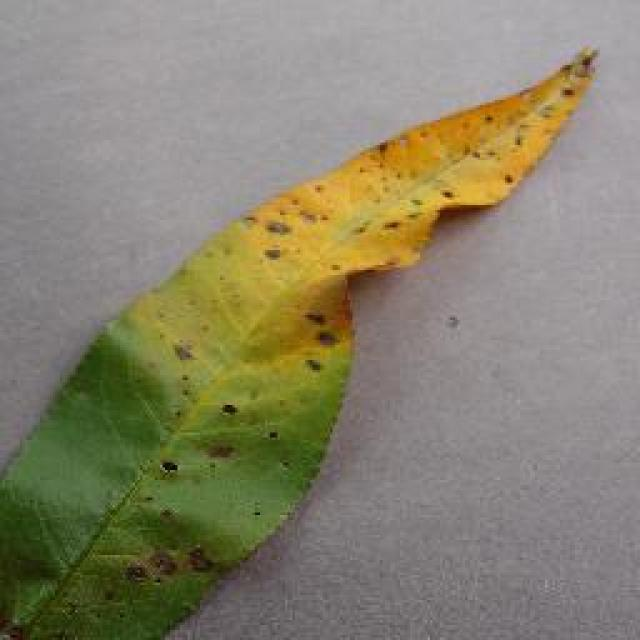Peach_Bacterial_Spot: (227, 148, 528, 457)
